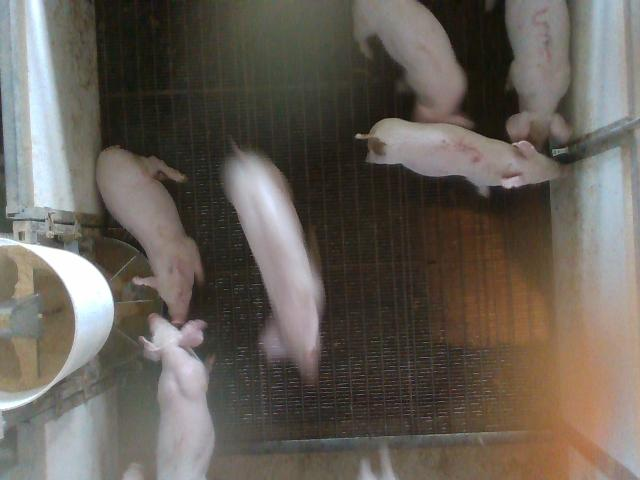pig-3: (505, 0, 572, 150)
pig-5: (356, 118, 562, 194)
